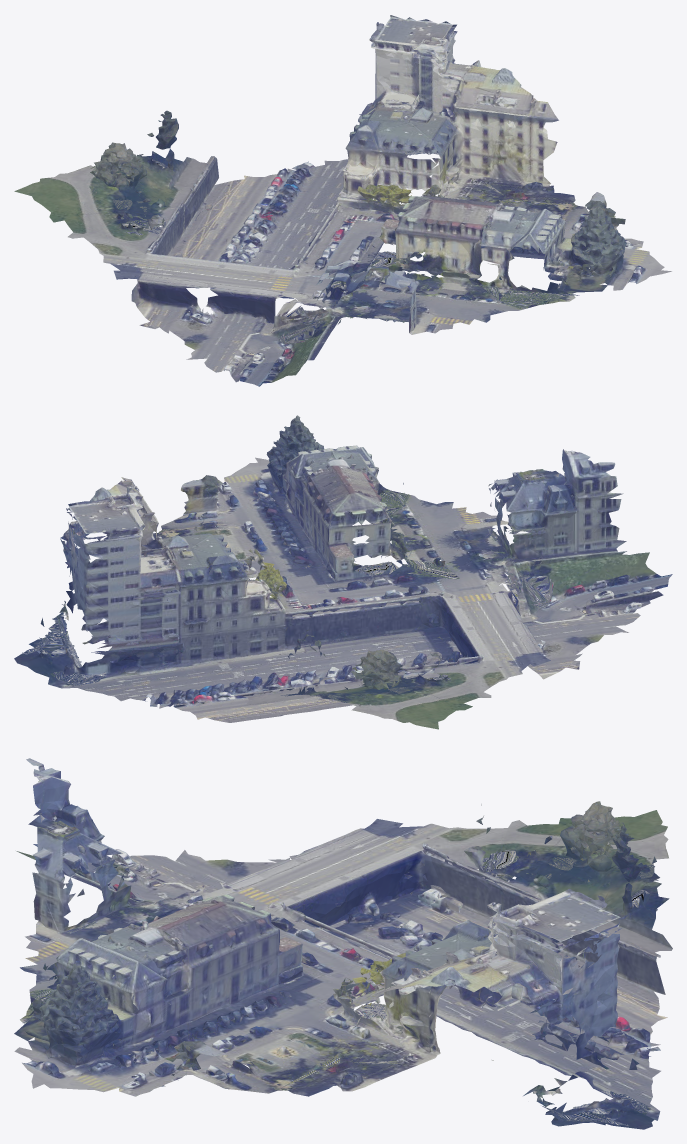
3 views of the same model, one above another, from view 1: azimuth 30°, elevation 25°; view 2: azimuth 150°, elevation 25°; view 3: azimuth 270°, elevation 25° (orthographic). The views are drawn at different scales.
Bounding box in the file's own units: 108 × 36.74 × 108.
1 material, 1 textured.
